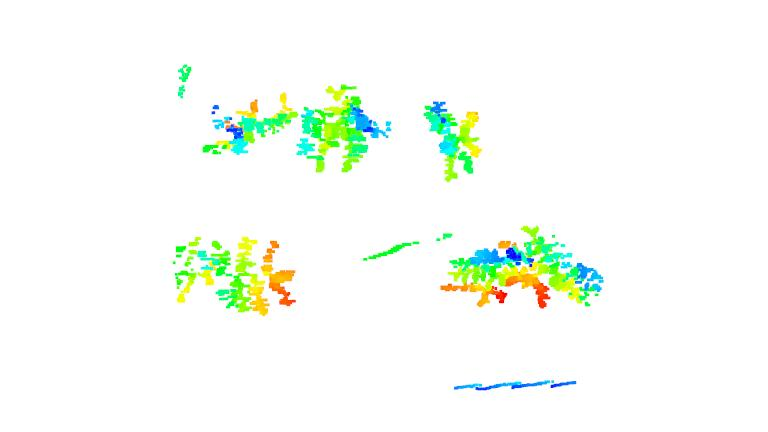chickpea: (509, 225, 601, 310), (299, 80, 381, 175), (231, 235, 302, 318), (420, 98, 484, 183), (441, 241, 510, 311), (167, 234, 232, 308), (197, 91, 259, 167), (261, 91, 296, 140)
